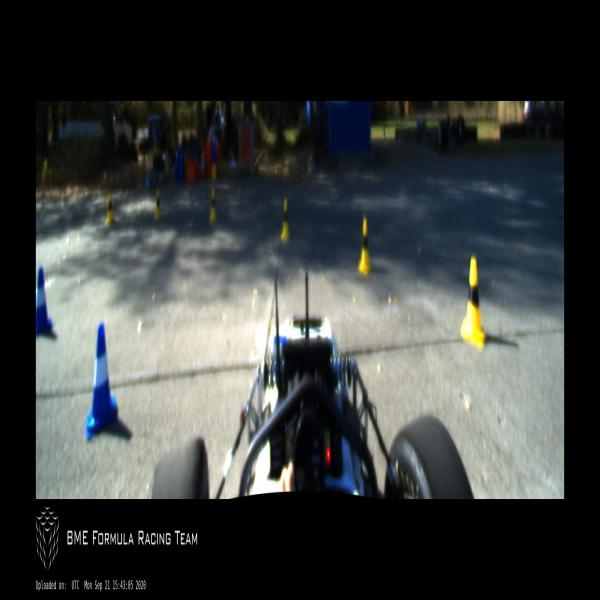blue_cone: (85, 322, 118, 442), (36, 265, 53, 338)
yellow_cone: (460, 258, 486, 351), (358, 216, 371, 276), (280, 198, 290, 242), (209, 189, 217, 223), (106, 193, 114, 225), (155, 189, 161, 220)
